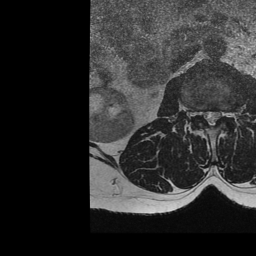CCS_stenosis: (208, 104, 215, 132)
LFS_stenosis: (222, 105, 229, 124)
LLS_normal: (215, 104, 222, 127)
RFS_stenosis: (194, 103, 201, 122)
RLS_stenosis: (201, 104, 208, 126)
